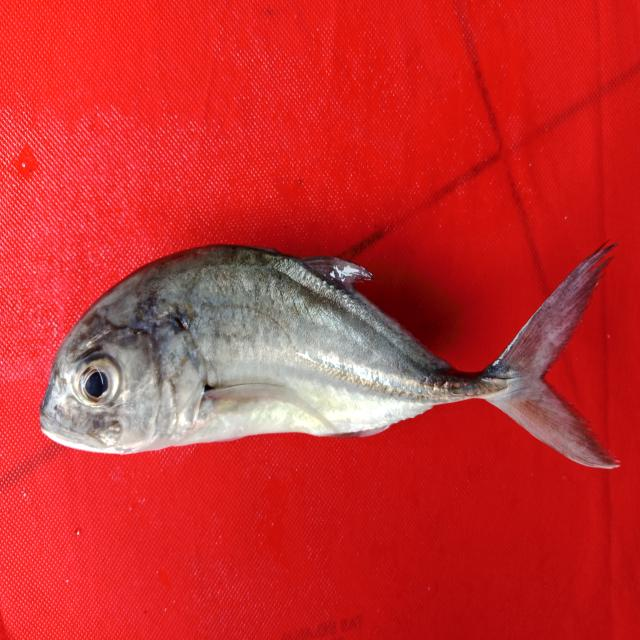ikan: (28, 214, 626, 495)
